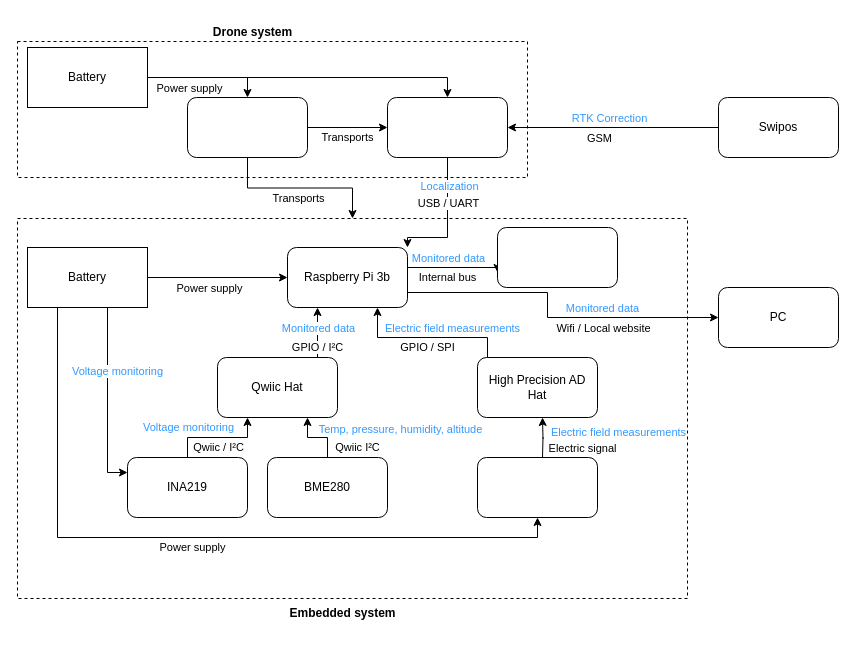
Some shapes in this 856 by 645 pixel diagram are drawn without their labels. The shapes that lost their labels are listed below. From the top down, each one's box as (x1, y1, x2, y2) in pixels, then its label:
(186, 96, 308, 158): Drone
(386, 96, 508, 158): GNSS/RTK Module
(496, 226, 618, 288): SD card
(476, 456, 598, 518): EFM113B
